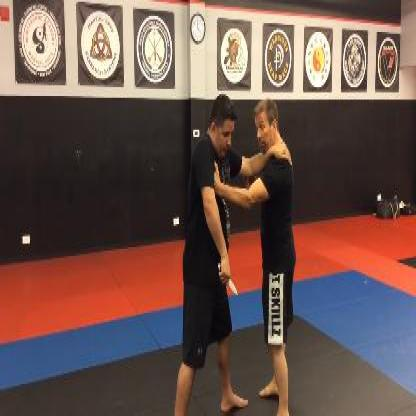knife: (216, 260, 238, 295)
